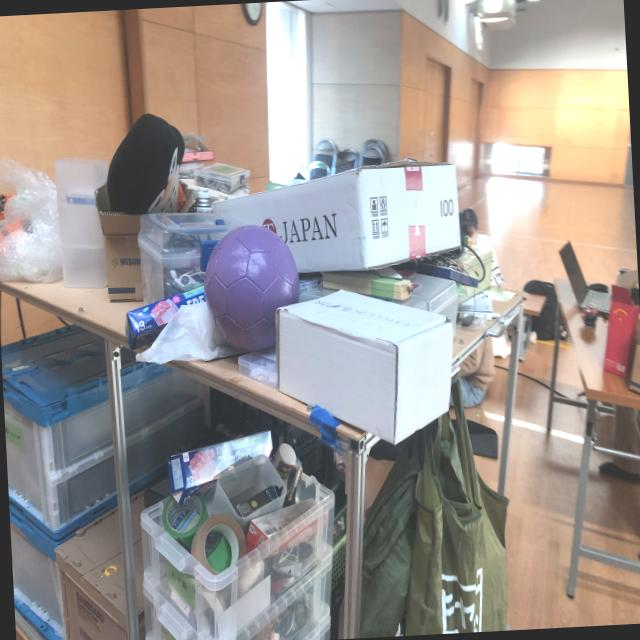purple_ball: (201, 220, 302, 356)
